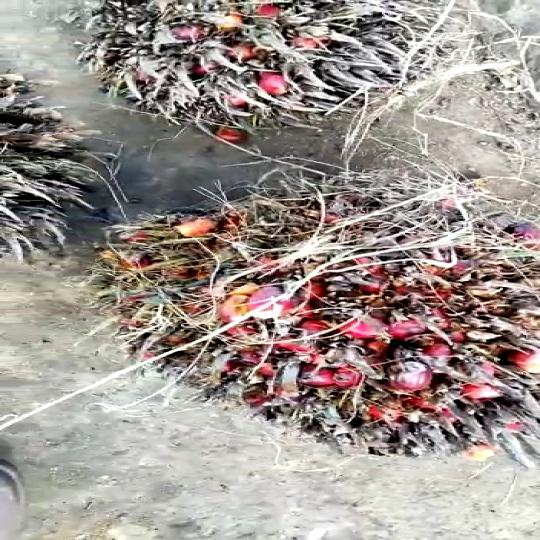terlalu masak: (55, 199, 540, 460)
